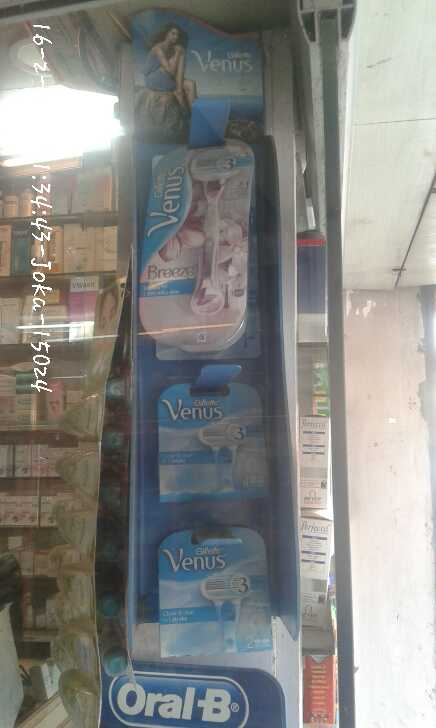venus: (144, 141, 248, 343), (160, 362, 267, 498), (163, 528, 271, 655)
